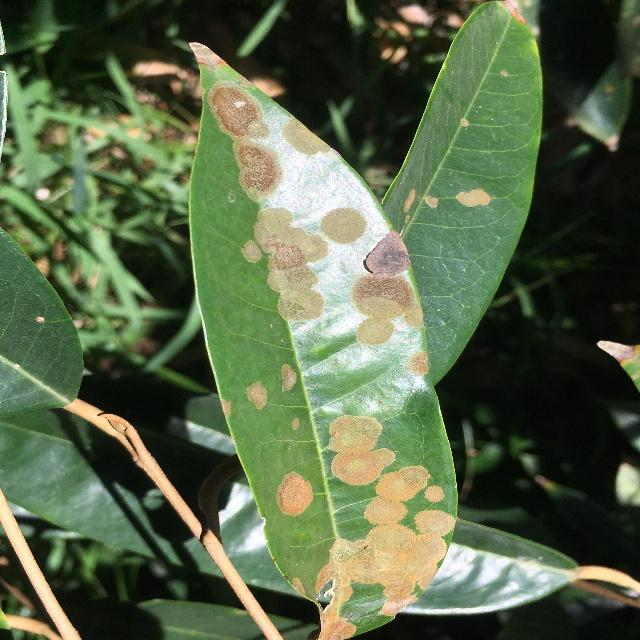Algal Leaf Spot: (181, 33, 467, 640)
